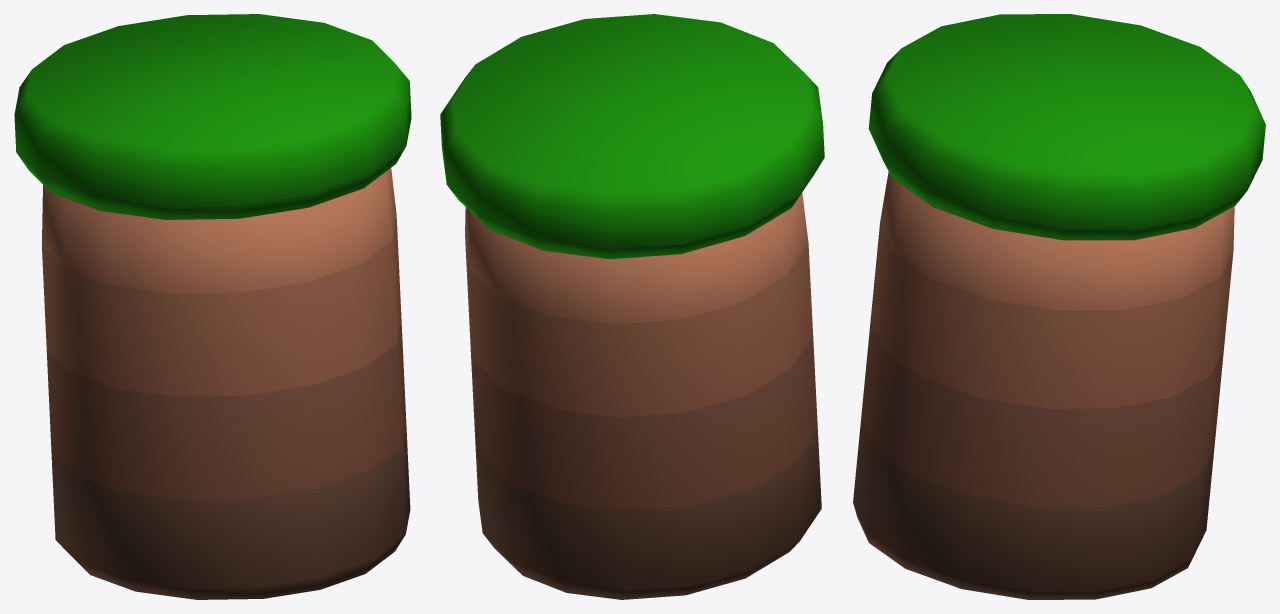
Rendered from ter3.fbx.
3 views of the same model, side by side, from view 1: azimuth 30°, elevation 25°; view 2: azimuth 150°, elevation 25°; view 3: azimuth 270°, elevation 25° (orthographic). The views are drawn at different scales.
Visible parts, largest first — view 1: ter.002, ter.001, ter.003, ter; view 2: ter.001, ter.002, ter.003, ter; view 3: ter.001, ter.002, ter.003, ter.
Boxes of the visible parts, box(x1,y1,x2,y2) form: ter.002: box(46, 319, 410, 599); ter.001: box(14, 14, 411, 219); ter.003: box(42, 216, 401, 396); ter: box(42, 168, 396, 293); ter.001: box(440, 14, 824, 259); ter.002: box(469, 329, 821, 599); ter.003: box(465, 236, 813, 417); ter: box(465, 193, 808, 324); ter.001: box(868, 14, 1265, 240); ter.002: box(853, 321, 1223, 599); ter.003: box(870, 222, 1233, 408); ter: box(880, 172, 1234, 310).
Size of the model in its own units: 2045 by 2681 by 2147.
